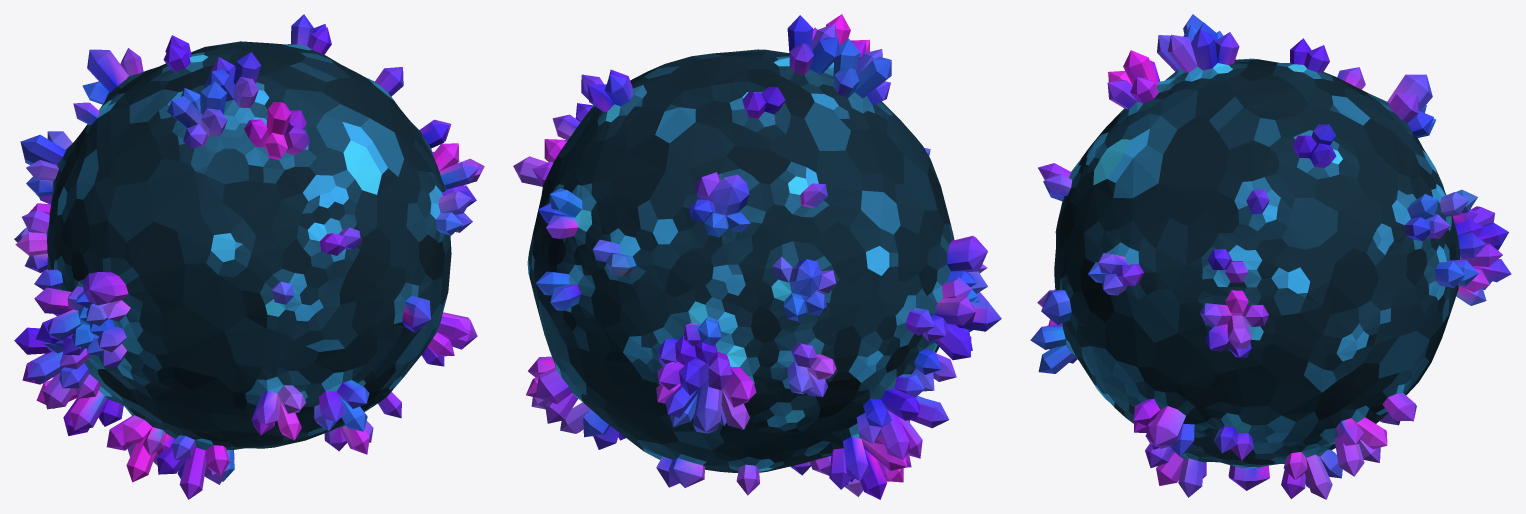
File: Crystal_planet_26.fbx
3 views of the same model, side by side, from view 1: azimuth 30°, elevation 25°; view 2: azimuth 150°, elevation 25°; view 3: azimuth 270°, elevation 25° (orthographic). The views are drawn at different scales.
Parts seen in each view (by area): view 1: file6; view 2: file6; view 3: file6.
Boxes of the visible parts, <box> form: file6: <box>14,14,484,499</box>; file6: <box>513,14,1001,499</box>; file6: <box>1030,14,1511,499</box>.
Bounding box in the file's own units: 2.56 × 2.32 × 2.37.
